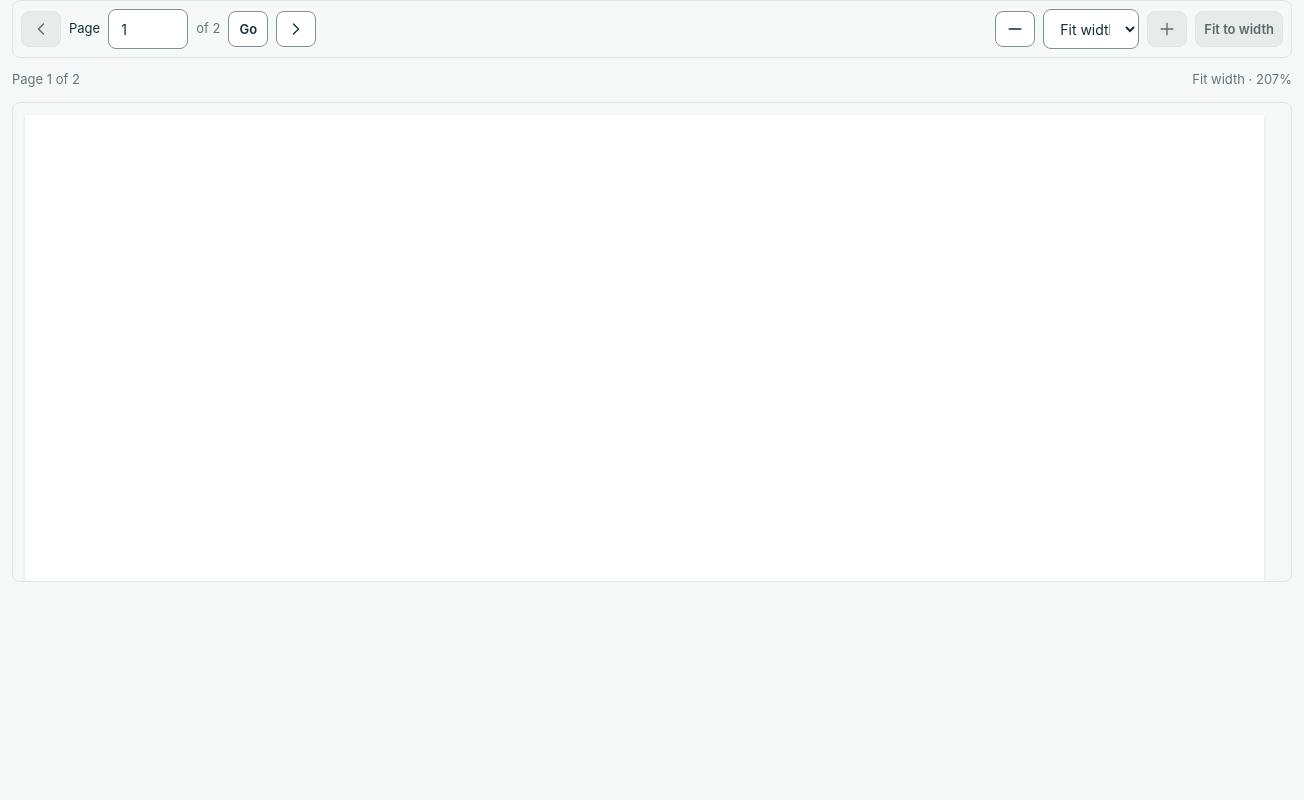
PDF page reader › supports direct page entry with Enter and updates the visible page count
This screenshot has width=1304, height=800.
Replace the text in the number field named "Page number" with "2" at (148, 29), box [108,9,188,49]
Then press Enter
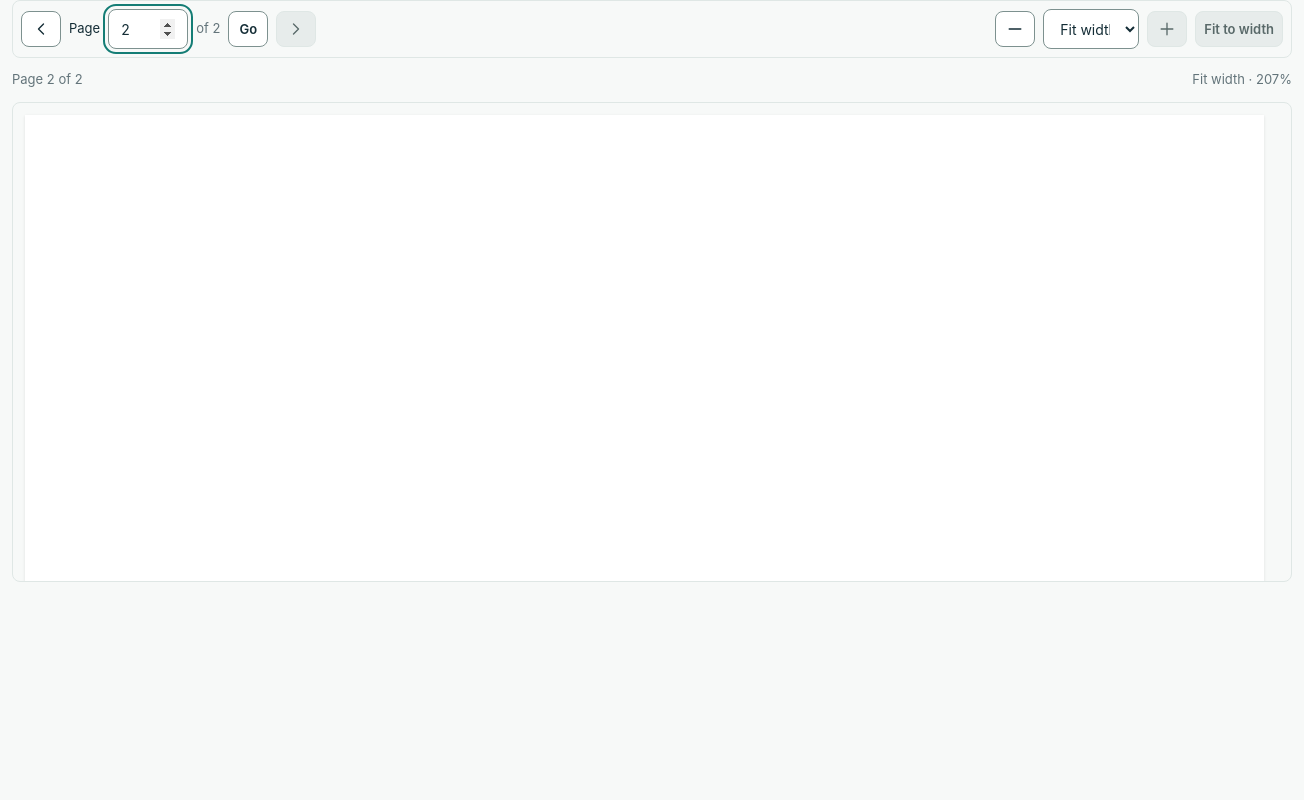
Now the text "Page 2 of 2" is shown, box [12,70,83,90]
Click the button named "Previous page" at (41, 29), box [21,11,61,47]
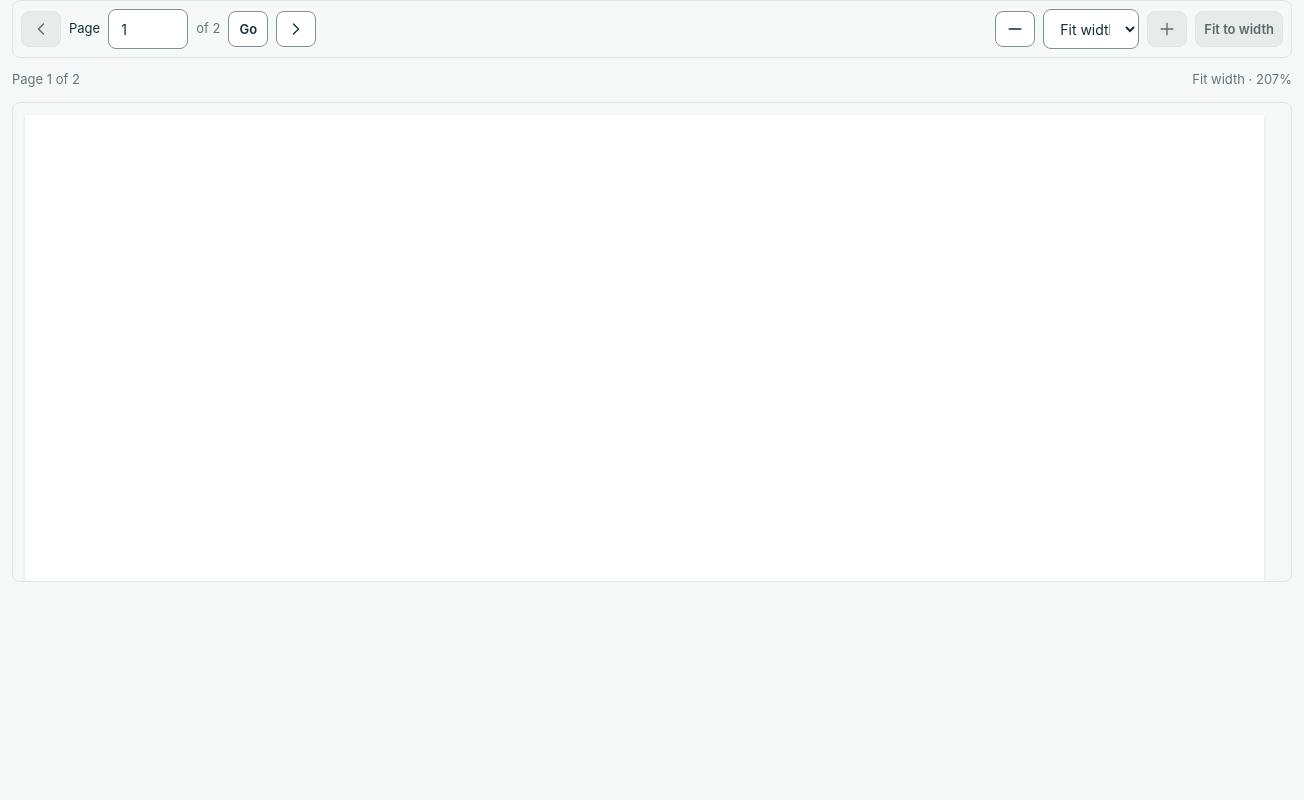
Now the number field named "Page number" holds "1", box [108,9,188,49]
